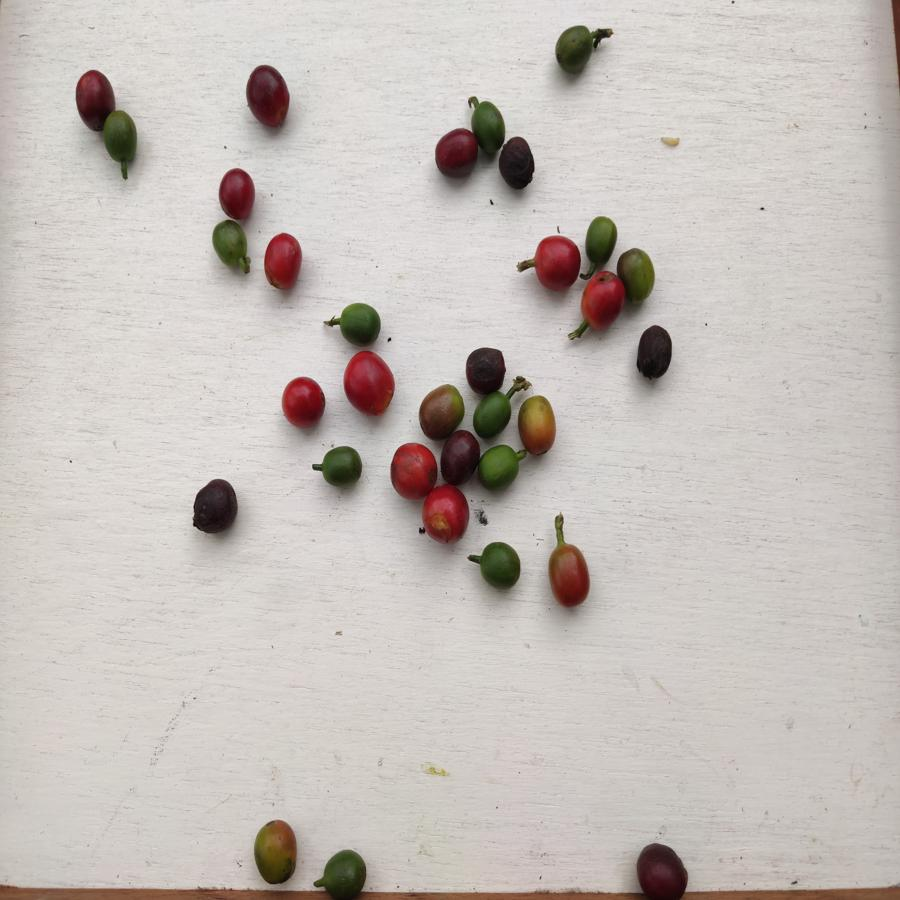Inmaduro: (316, 849, 371, 898), (329, 302, 383, 348), (209, 219, 252, 274), (476, 445, 523, 493), (477, 542, 523, 591), (554, 23, 594, 78), (620, 246, 658, 303), (317, 444, 363, 491), (471, 96, 508, 152), (106, 111, 139, 168), (472, 393, 512, 436), (585, 216, 617, 266)
Maduro: (340, 347, 397, 418), (422, 484, 473, 549), (388, 440, 438, 502), (533, 233, 582, 290), (278, 378, 328, 430), (580, 271, 624, 329), (261, 233, 303, 293)
Pinton: (253, 817, 298, 888), (548, 541, 593, 609), (417, 383, 464, 438), (521, 393, 557, 458)
Sobremaduro: (637, 840, 693, 900), (243, 63, 293, 128), (190, 478, 243, 538), (73, 69, 114, 129), (634, 322, 673, 382), (433, 128, 477, 180), (463, 346, 507, 395), (217, 168, 256, 221), (499, 136, 537, 190), (440, 434, 478, 484)
